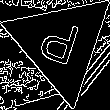P_S: (37, 14, 86, 74)
